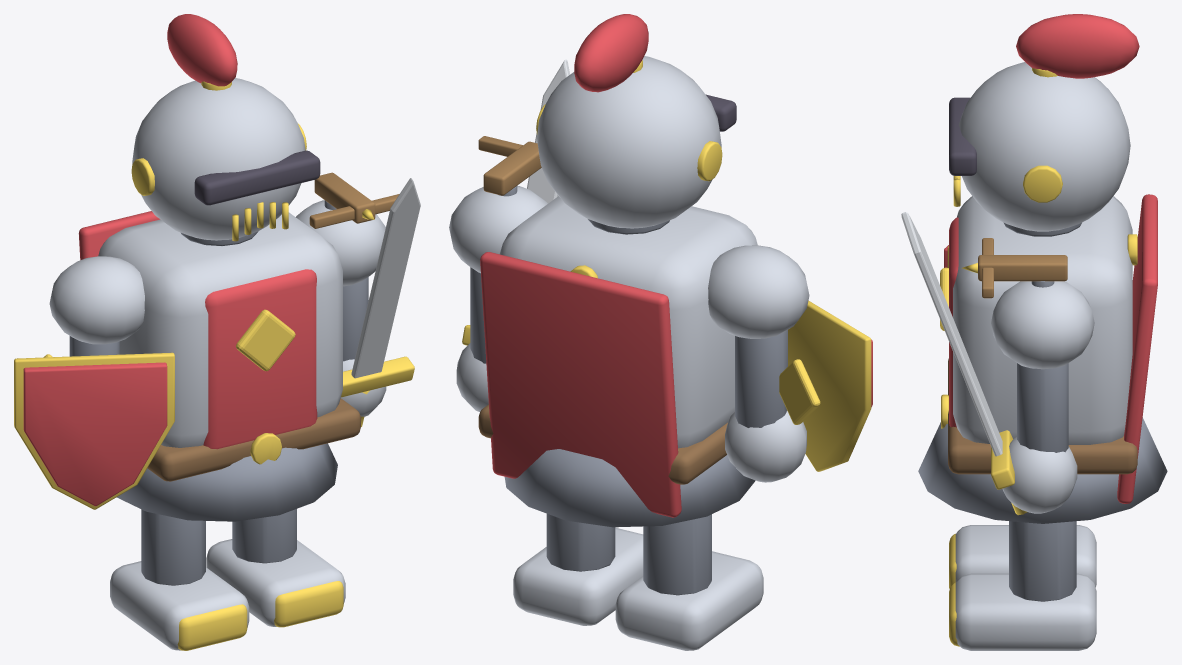
Rendered from SirIronclad.fbx.
3 views of the same model, side by side, from view 1: azimuth 30°, elevation 25°; view 2: azimuth 150°, elevation 25°; view 3: azimuth 270°, elevation 25° (orthographic). The views are drawn at different scales.
Visible parts, largest first — view 1: SirIronclad_Torso, SirIronclad_Head, SirIronclad_Shield, SirIronclad_Chest, SirIronclad_Hips, SirIronclad_ShoulderL, SirIronclad_FootL, SirIronclad_Sword, SirIronclad_FootR, SirIronclad_Belt, SirIronclad_LegL, SirIronclad_ShieldRim (+16 smaller); view 2: SirIronclad_Pack, SirIronclad_Head, SirIronclad_Torso, SirIronclad_Hips, SirIronclad_ShieldRim, SirIronclad_FootL, SirIronclad_ShoulderL, SirIronclad_FootR, SirIronclad_LegL, SirIronclad_ShoulderR, SirIronclad_ArmL, SirIronclad_Siren (+10 smaller); view 3: SirIronclad_Torso, SirIronclad_Head, SirIronclad_FootR, SirIronclad_Hips, SirIronclad_ShoulderR, SirIronclad_Siren, SirIronclad_Pack, SirIronclad_LegR, SirIronclad_ArmR, SirIronclad_HandR, SirIronclad_FootL, SirIronclad_Belt (+8 smaller).
Part boxes in pixels (<box>): SirIronclad_Torso: <box>98,212,342,447</box>; SirIronclad_Head: <box>132,78,305,240</box>; SirIronclad_Shield: <box>23,362,167,506</box>; SirIronclad_Chest: <box>203,269,317,449</box>; SirIronclad_Hips: <box>116,443,337,521</box>; SirIronclad_ShoulderL: <box>49,256,144,344</box>; SirIronclad_FootL: <box>110,561,249,650</box>; SirIronclad_Sword: <box>351,178,420,378</box>; SirIronclad_FootR: <box>206,539,345,627</box>; SirIronclad_Belt: <box>147,398,360,481</box>; SirIronclad_LegL: <box>141,509,205,585</box>; SirIronclad_ShieldRim: <box>14,352,174,509</box>; SirIronclad_Pack: <box>480,252,681,517</box>; SirIronclad_Head: <box>537,56,721,228</box>; SirIronclad_Torso: <box>500,196,757,448</box>; SirIronclad_Hips: <box>504,449,755,527</box>; SirIronclad_ShieldRim: <box>788,300,871,471</box>; SirIronclad_FootL: <box>615,551,763,650</box>; SirIronclad_ShoulderL: <box>708,245,809,338</box>; SirIronclad_FootR: <box>513,527,643,625</box>; SirIronclad_LegL: <box>643,514,711,595</box>; SirIronclad_ShoulderR: <box>449,185,547,273</box>; SirIronclad_ArmL: <box>735,330,787,427</box>; SirIronclad_Siren: <box>574,14,648,92</box>; SirIronclad_Torso: <box>953,196,1132,444</box>; SirIronclad_Head: <box>959,62,1130,231</box>; SirIronclad_FootR: <box>955,573,1096,650</box>; SirIronclad_Hips: <box>918,417,1167,523</box>; SirIronclad_ShoulderR: <box>991,281,1094,369</box>; SirIronclad_Siren: <box>1016,14,1139,78</box>; SirIronclad_Pack: <box>1117,194,1157,503</box>; SirIronclad_LegR: <box>1009,521,1076,601</box>; SirIronclad_ArmR: <box>1017,363,1068,452</box>; SirIronclad_HandR: <box>1002,437,1077,513</box>; SirIronclad_FootL: <box>955,525,1096,587</box>; SirIronclad_Belt: <box>948,358,1137,474</box>.
Bounding box in the file's own units: 467 × 659 × 267.
